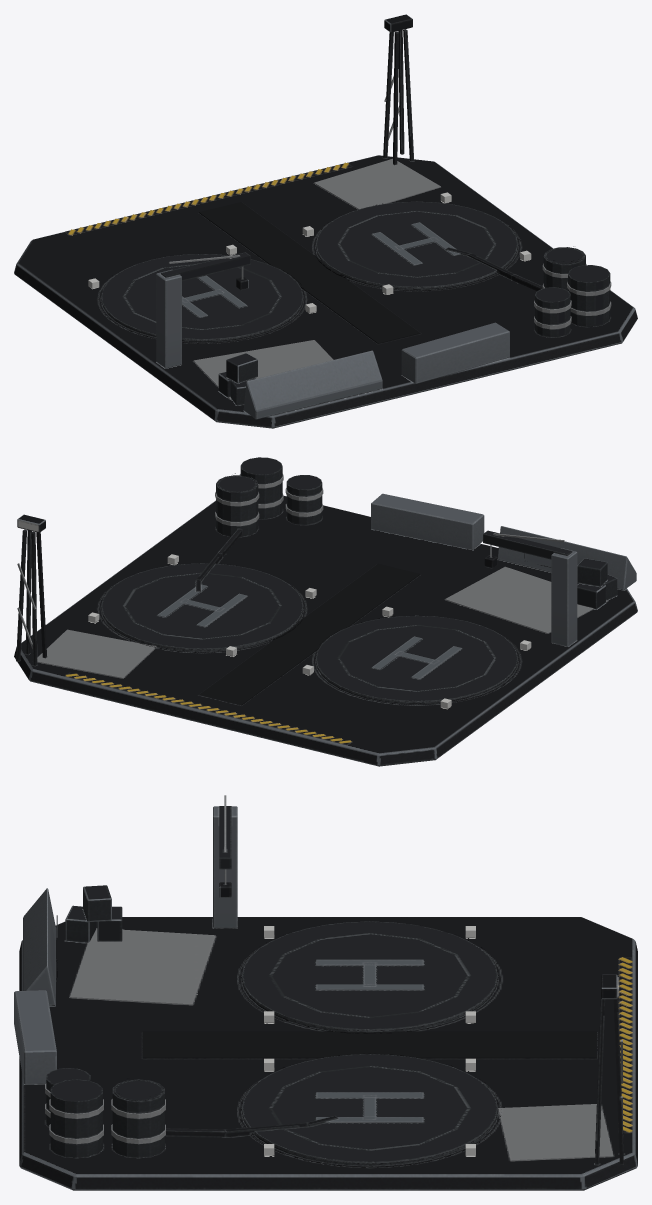
Rendered from chs_rookery.fbx.
3 renders of one model, top to bottom at view 1: azimuth 30°, elevation 25°; view 2: azimuth 150°, elevation 25°; view 3: azimuth 270°, elevation 25°, orthographic. The views are drawn at different scales.
Visible parts, largest first — view 1: base_bar, base_glow_running_bar; view 2: base_bar, base_glow_running_bar; view 3: base_bar, base_glow_running_bar.
Boxes of the visible parts, <box> form: base_bar: <box>14,14,637,428</box>; base_glow_running_bar: <box>88,192,531,313</box>; base_bar: <box>14,457,637,766</box>; base_glow_running_bar: <box>88,554,531,708</box>; base_bar: <box>14,795,637,1190</box>; base_glow_running_bar: <box>264,926,475,1155</box>.
Size of the model in its own units: 2996 by 1230 by 3022.
Materials: 2 (2 with a texture image).
